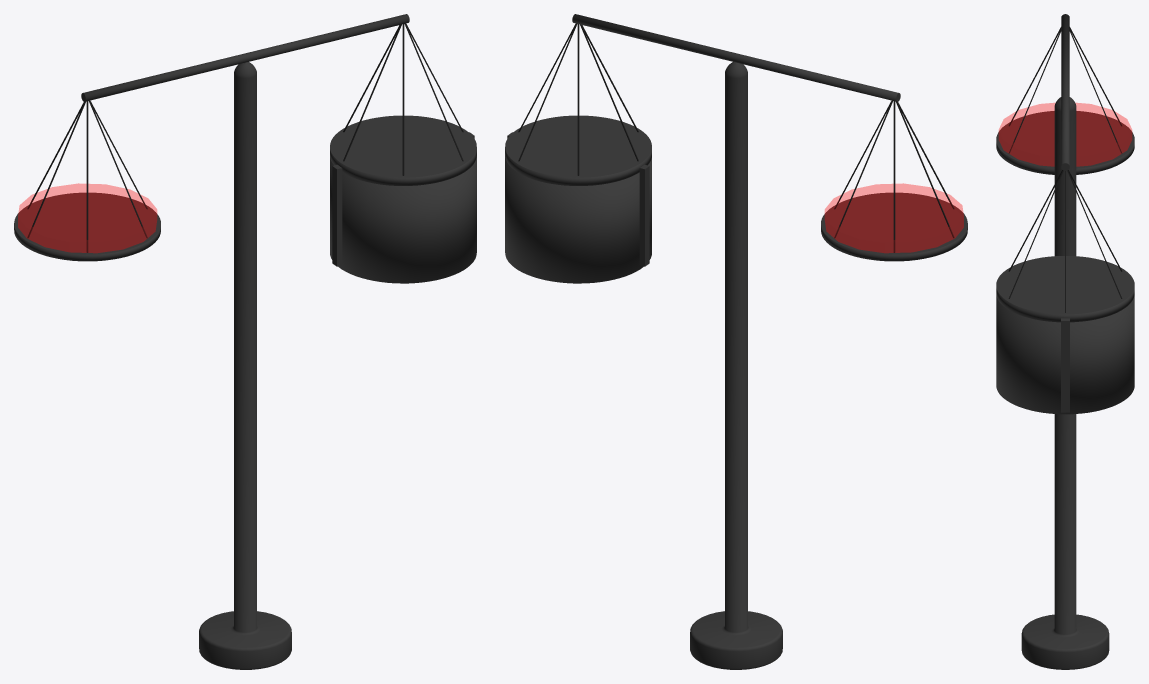
The model's file is Scale.fbx.
3 views of the same model, side by side, from view 1: azimuth 30°, elevation 25°; view 2: azimuth 150°, elevation 25°; view 3: azimuth 270°, elevation 25° (orthographic). The views are drawn at different scales.
Visible parts, largest first — view 1: Base, Plate.001, Plate.002, Plate, Interaction, Rod, RopesLeft, RopesRight; view 2: Base, Plate.001, Plate.002, Plate, Interaction, Rod, RopesLeft, RopesRight; view 3: Plate.001, Base, Plate.002, Plate, Interaction, Rod, RopesRight, RopesLeft.
Boxes of the visible parts, x1,y1,x2,y2 form: Base: [199, 62, 291, 669]; Plate.001: [330, 156, 476, 283]; Plate.002: [330, 115, 476, 266]; Plate: [14, 192, 160, 261]; Interaction: [18, 183, 156, 252]; Rod: [81, 14, 409, 101]; RopesLeft: [27, 100, 147, 252]; RopesRight: [343, 23, 463, 175]; Base: [690, 62, 782, 669]; Plate.001: [505, 156, 651, 283]; Plate.002: [505, 115, 651, 266]; Plate: [821, 192, 967, 261]; Interaction: [825, 183, 963, 252]; Rod: [572, 14, 900, 101]; RopesLeft: [834, 100, 954, 252]; RopesRight: [518, 23, 638, 175]; Plate.001: [996, 296, 1134, 414]; Base: [1021, 97, 1109, 669]; Plate.002: [996, 256, 1134, 412]; Plate: [996, 111, 1134, 174]; Interaction: [999, 103, 1131, 166]; Rod: [1061, 14, 1069, 170]; RopesRight: [1008, 170, 1122, 312]; RopesLeft: [1008, 27, 1122, 153].
Size of the model in its own units: 111 by 141 by 31.42.
